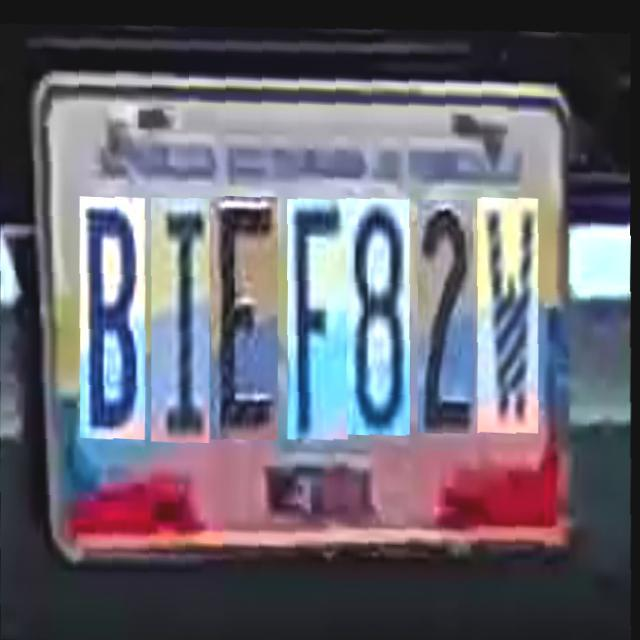2: (414, 188, 472, 424)
8: (342, 184, 408, 423)
B: (76, 177, 144, 420)
E: (207, 180, 277, 424)
F: (284, 184, 346, 426)
I: (147, 180, 208, 426)
W: (474, 188, 536, 424)
